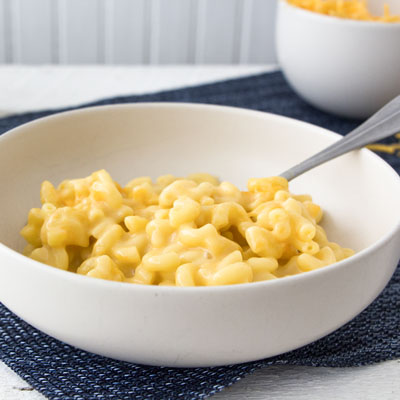cheese: (121, 171, 226, 273)
